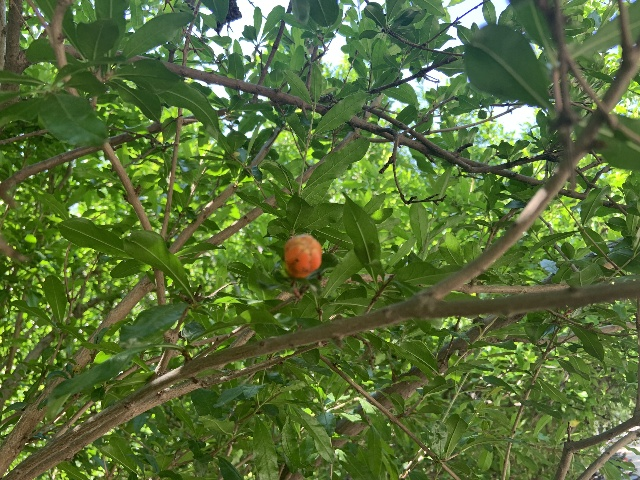bud: (283, 235, 322, 278)
